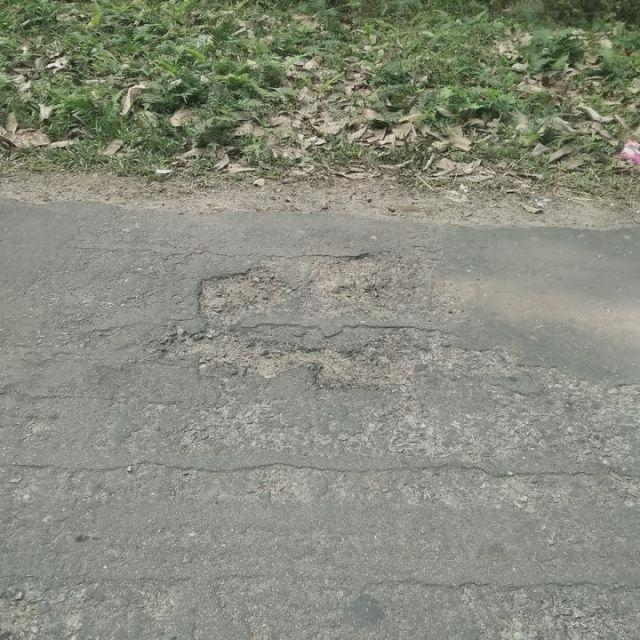Pothole: (154, 247, 432, 396)
